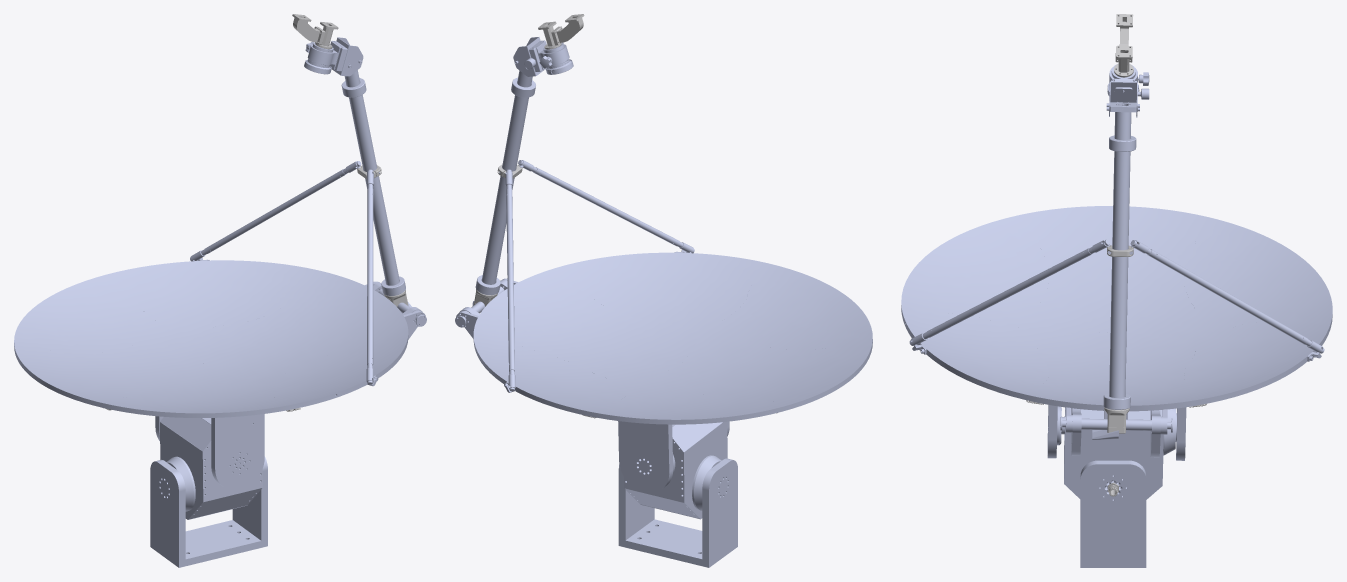
File: gimbal.glb
The picture shows the model from 3 angles, left to right: view 1: azimuth 30°, elevation 25°; view 2: azimuth 150°, elevation 25°; view 3: azimuth 270°, elevation 25°; orthographic projection. The views are drawn at different scales.
Visible parts, largest first — view 1: _____MA100B_______MA100B___________1.0________________(2)_1., __4_MA100B_______MA100B___________1.0________________(2)_1.0, __2_MA100B_______MA100B___________1.0________________(2)_1.0, __3_MA100B_______MA100B___________1.0________________(2)_1.0, __6_MA100B_______MA100B___________1.0________________(2)_1.0, __5_MA100B_______MA100B___________1.0________________(2)_1.0, Y-Dish Arm-Right, X Fork Arm - Front, YGROUP, XY Base Plate, __________-57_________A_1.0________________(2)_1.0__________ (×2), Central Gimbal Box - Front Plate (+7 smaller); view 2: _____MA100B_______MA100B___________1.0________________(2)_1., __6_MA100B_______MA100B___________1.0________________(2)_1.0, __2_MA100B_______MA100B___________1.0________________(2)_1.0, __5_MA100B_______MA100B___________1.0________________(2)_1.0, __4_MA100B_______MA100B___________1.0________________(2)_1.0, __3_MA100B_______MA100B___________1.0________________(2)_1.0, Y-Dish Arm-Left, X Fork Arm - Front, YGROUP, XY Base Plate, __________-57_________A_1.0________________(2)_1.0__________ (×2), Central Gimbal Box - Front Plate (+7 smaller); view 3: __2_MA100B_______MA100B___________1.0________________(2)_1.0, __3_MA100B_______MA100B___________1.0________________(2)_1.0, __5_MA100B_______MA100B___________1.0________________(2)_1.0, _____MA100B_______MA100B___________1.0________________(2)_1., __4_MA100B_______MA100B___________1.0________________(2)_1.0, __6_MA100B_______MA100B___________1.0________________(2)_1.0, X Fork Arm - Back, YGROUP, Central Gimbal Box - Back Plate, __________-57_________A_1.0________________(2)_1.0__________ (×2), __________xin_________-5_1.0________________(2)_1.0_________, __________-0_MA100B___________1.0________________(2)_1.0____ (+3 smaller).
Part boxes in pixels (x1,y1,x2,y2): _____MA100B_______MA100B___________1.0________________(2)_1.: (177,275,425,383); __4_MA100B_______MA100B___________1.0________________(2)_1.0: (118,260,337,335); __2_MA100B_______MA100B___________1.0________________(2)_1.0: (15,336,245,402); __3_MA100B_______MA100B___________1.0________________(2)_1.0: (14,272,176,353); __6_MA100B_______MA100B___________1.0________________(2)_1.0: (246,323,408,406); __5_MA100B_______MA100B___________1.0________________(2)_1.0: (84,384,304,417); Y-Dish Arm-Right: (211,414,264,490); X Fork Arm - Front: (150,459,185,560); YGROUP: (344,63,399,285); XY Base Plate: (150,520,267,567); __________-57_________A_1.0________________(2)_1.0__________ (×2): (204,170,373,363); Central Gimbal Box - Front Plate: (162,423,200,515); _____MA100B_______MA100B___________1.0________________(2)_1.: (456,271,708,385); __6_MA100B_______MA100B___________1.0________________(2)_1.0: (545,252,767,332); __2_MA100B_______MA100B___________1.0________________(2)_1.0: (639,332,871,405); __5_MA100B_______MA100B___________1.0________________(2)_1.0: (709,263,872,350); __4_MA100B_______MA100B___________1.0________________(2)_1.0: (473,325,638,413); __3_MA100B_______MA100B___________1.0________________(2)_1.0: (578,386,801,424); Y-Dish Arm-Left: (618,421,673,493); X Fork Arm - Front: (702,458,737,560); YGROUP: (481,70,532,284); XY Base Plate: (618,519,737,567); __________-57_________A_1.0________________(2)_1.0__________ (×2): (506,168,679,369); Central Gimbal Box - Front Plate: (686,422,725,514); __2_MA100B_______MA100B___________1.0________________(2)_1.0: (1037,206,1196,335); __3_MA100B_______MA100B___________1.0________________(2)_1.0: (1184,214,1332,333); __5_MA100B_______MA100B___________1.0________________(2)_1.0: (901,211,1048,330); _____MA100B_______MA100B___________1.0________________(2)_1.: (1037,330,1196,434); __4_MA100B_______MA100B___________1.0________________(2)_1.0: (1184,310,1332,405); __6_MA100B_______MA100B___________1.0________________(2)_1.0: (901,302,1048,402); X Fork Arm - Back: (1080,460,1146,559); YGROUP: (1109,102,1136,397); Central Gimbal Box - Back Plate: (1069,429,1157,495); __________-57_________A_1.0________________(2)_1.0__________ (×2): (927,248,1307,344); __________xin_________-5_1.0________________(2)_1.0_________: (1114,14,1133,77); __________-0_MA100B___________1.0________________(2)_1.0____: (1070,415,1162,434).
Bounding box in the file's own units: 1.12 × 1.45 × 0.9801.
